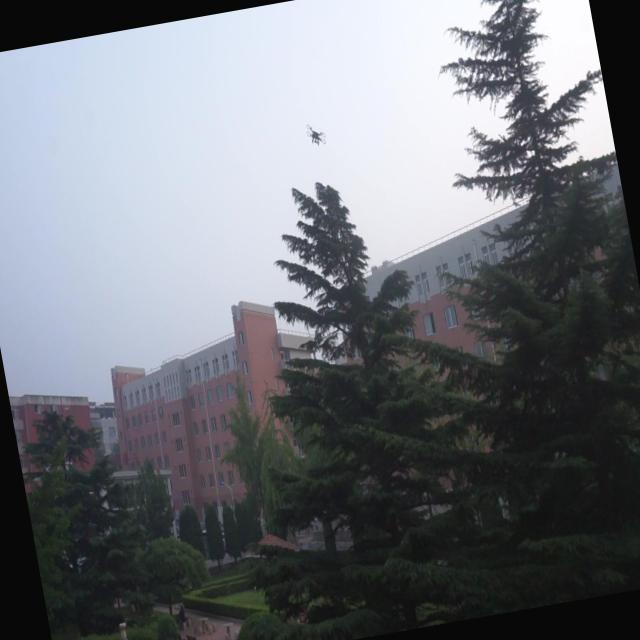drone: (303, 118, 328, 152)
